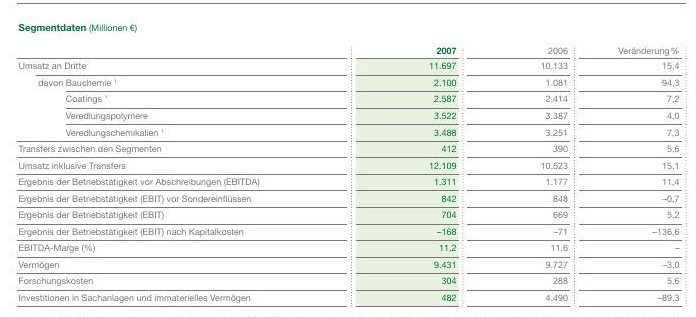table: (0, 0, 696, 317)
